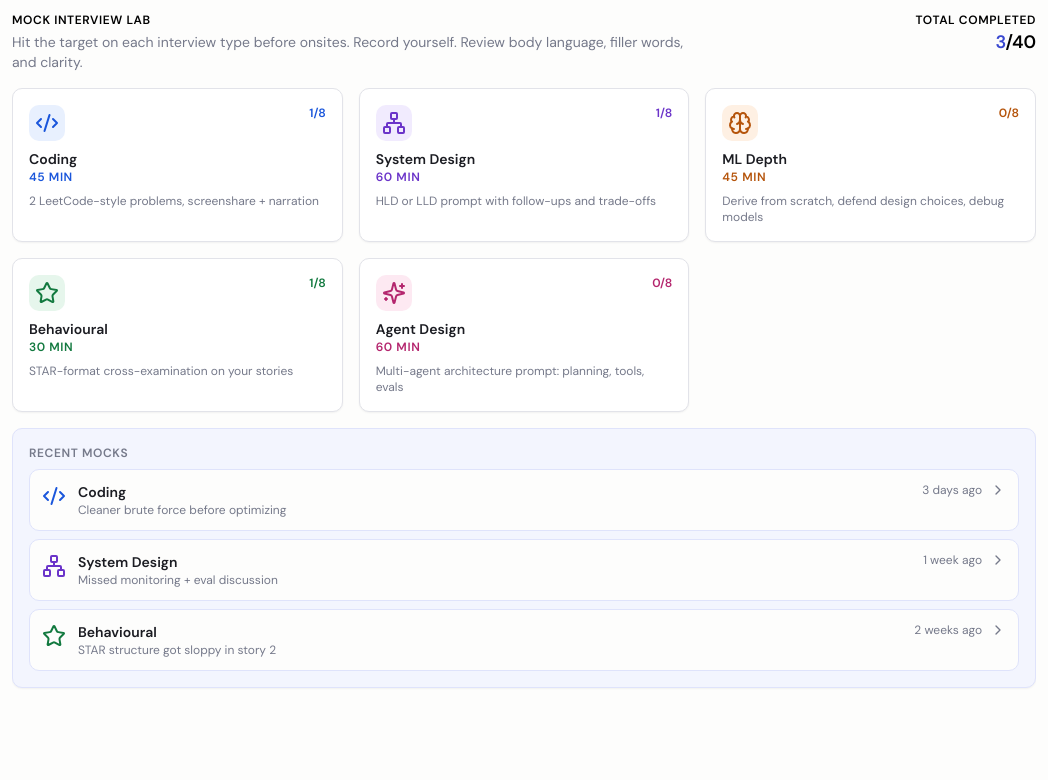
Test: MockInterviewLab system design session › opens the system design ready screen with an enabled Start timer
This screenshot has width=1048, height=780.
Step 1. Click the button with aria-label "Start System Design" → (394, 123), box [359,88,689,242]
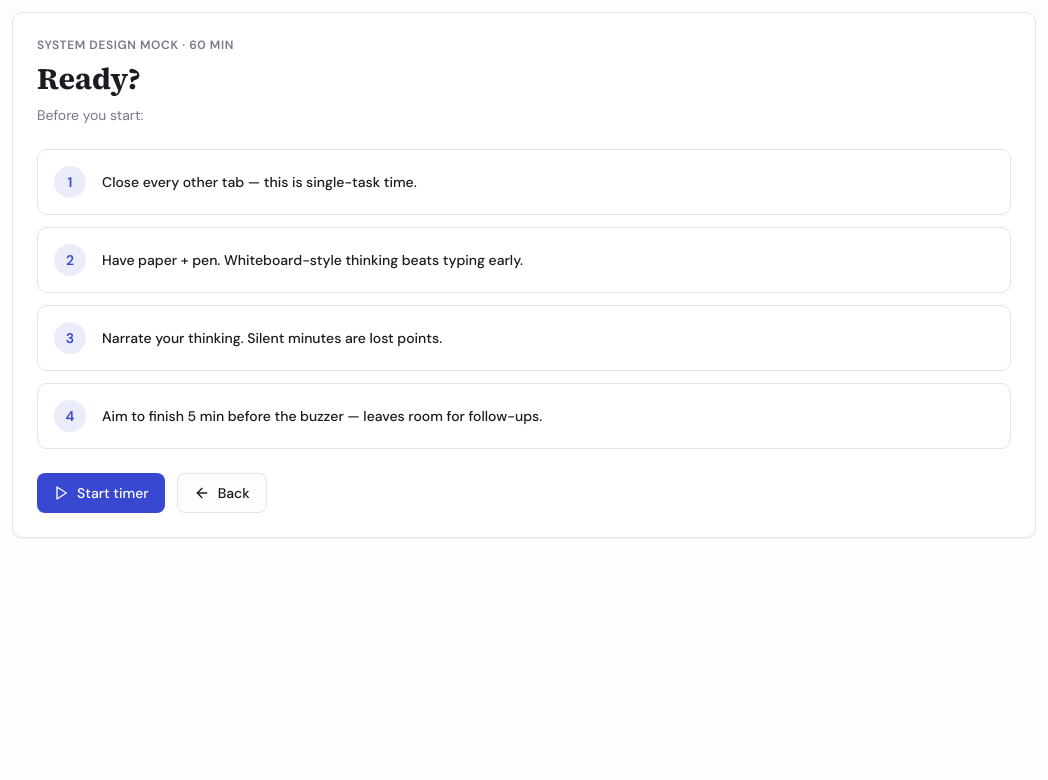
Check: the text "System Design mock · 60 min" is shown, box [37,37,234,53]
Check: the heading "Ready?" is shown, box [37,58,141,99]
Check: the button "Start timer" is enabled, box [37,473,165,513]
